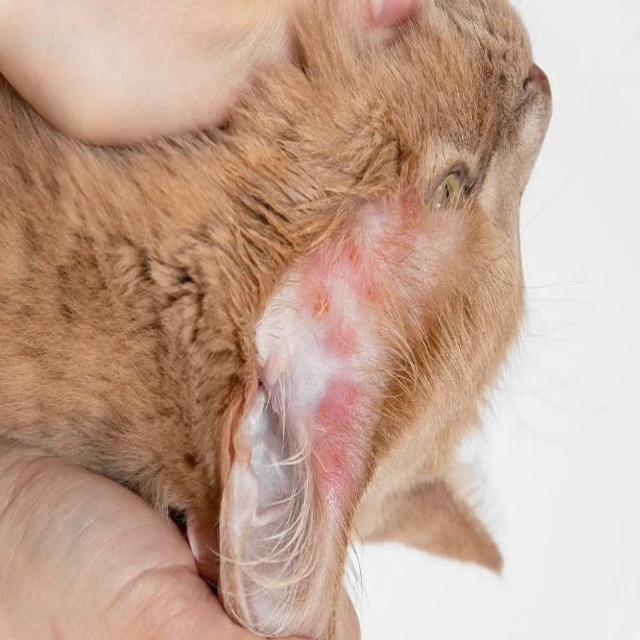ringworm: (307, 202, 426, 459)
